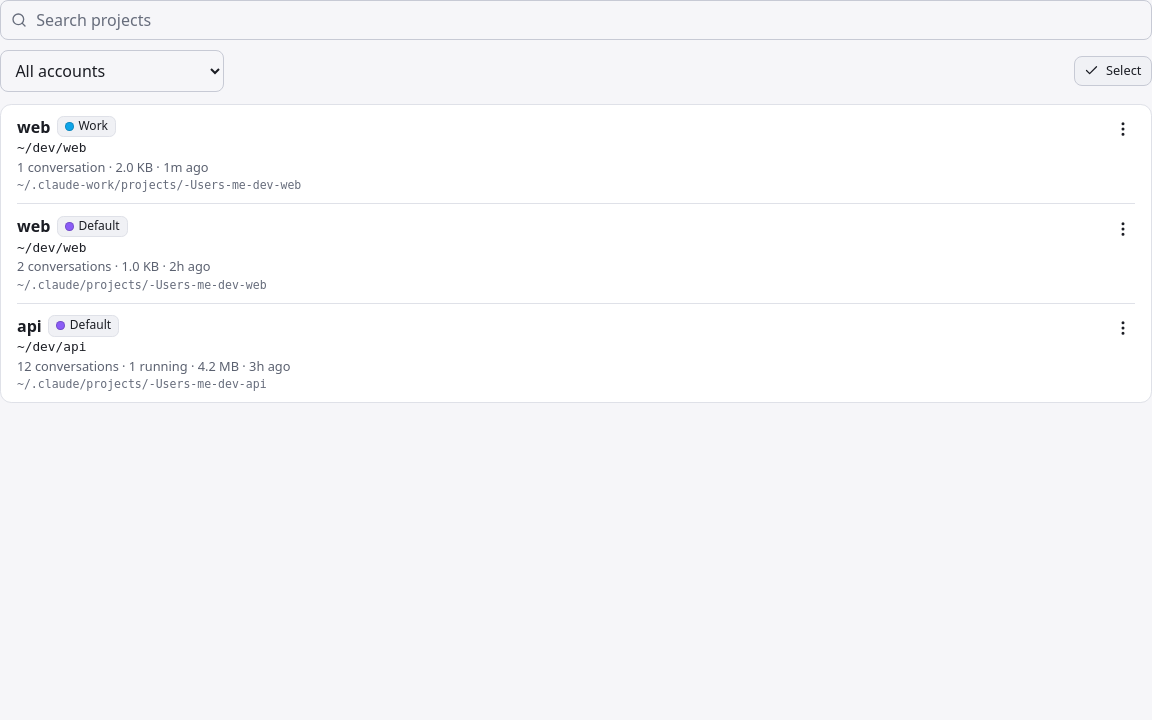
Test case: ProjectsViewComponent › on a phone copies the path but does not reveal, and a delete says what it needs
What coordinates should you click on to do the following:
click the button named "Project menu: api"
I would click on:
 (1123, 328)
Its box is top-left (1105, 310), bottom-right (1141, 346).
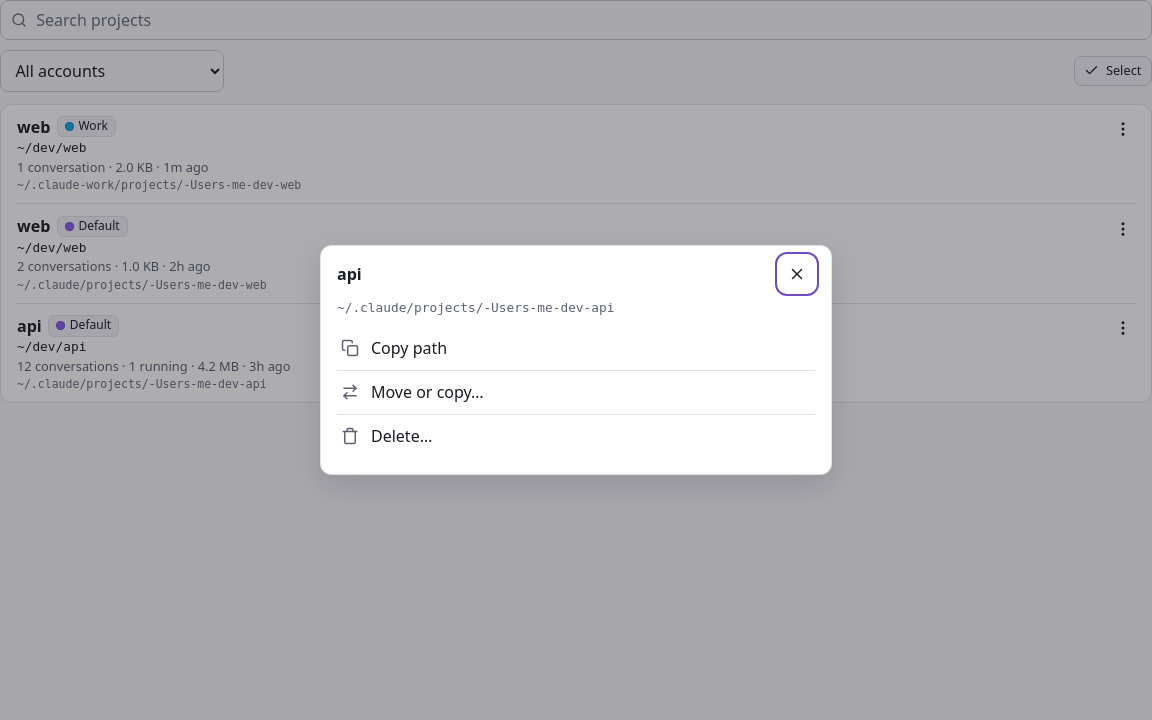
What coordinates should you click on to do the following:
click the button "Delete…"
I would click on:
 (402, 436)
Its box is top-left (337, 414), bottom-right (815, 458).
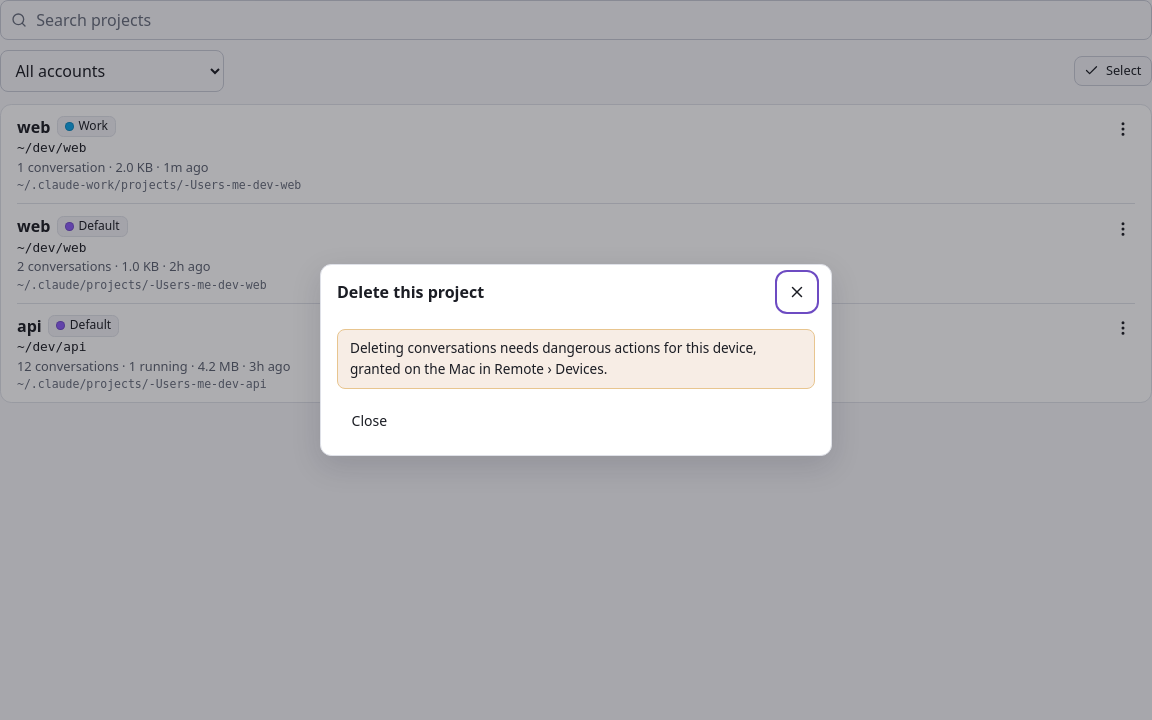
Expected: the message with class "warn" shows "needs dangerous actions for this device", top-left (350, 338), bottom-right (757, 378)
